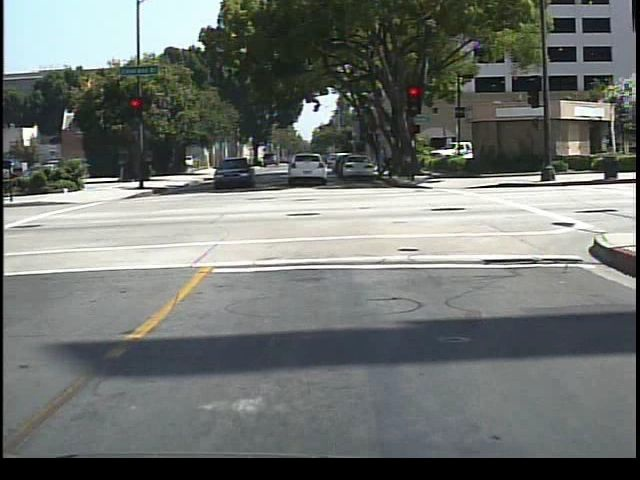person: (376, 143, 397, 185)
